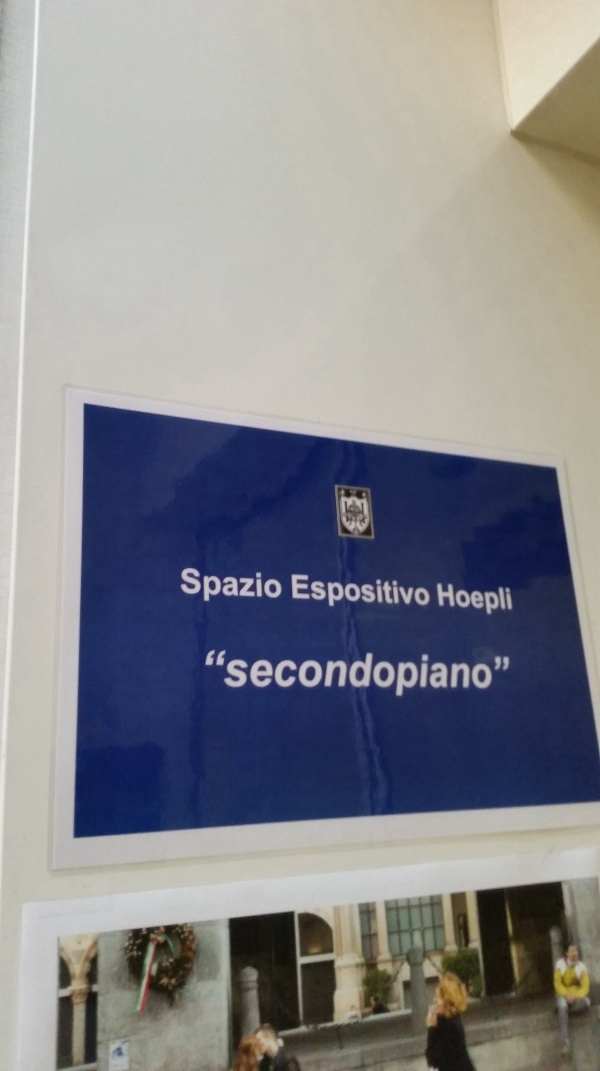text: (209, 651, 224, 699), (225, 651, 240, 699), (241, 651, 256, 699), (257, 651, 272, 699), (273, 651, 288, 699), (289, 651, 304, 699), (305, 651, 320, 699), (321, 651, 336, 699), (337, 651, 352, 699), (353, 651, 368, 699), (369, 651, 384, 699), (385, 651, 400, 699), (401, 651, 416, 699), (417, 651, 432, 699), (433, 651, 448, 699), (449, 651, 464, 699), (465, 651, 480, 699), (481, 651, 496, 699), (193, 567, 208, 606), (209, 567, 224, 606), (225, 567, 240, 606), (241, 567, 256, 606), (257, 567, 272, 606), (497, 651, 509, 699), (305, 574, 320, 610), (321, 574, 336, 610), (337, 574, 352, 610), (353, 574, 368, 610), (369, 574, 384, 610), (385, 574, 400, 610), (401, 574, 416, 610), (417, 574, 431, 610), (449, 583, 464, 616), (465, 583, 480, 616), (481, 583, 496, 616), (497, 583, 512, 616), (292, 574, 304, 610), (181, 567, 192, 606), (436, 583, 448, 616), (273, 567, 282, 606), (206, 651, 208, 699), (513, 583, 514, 616)
